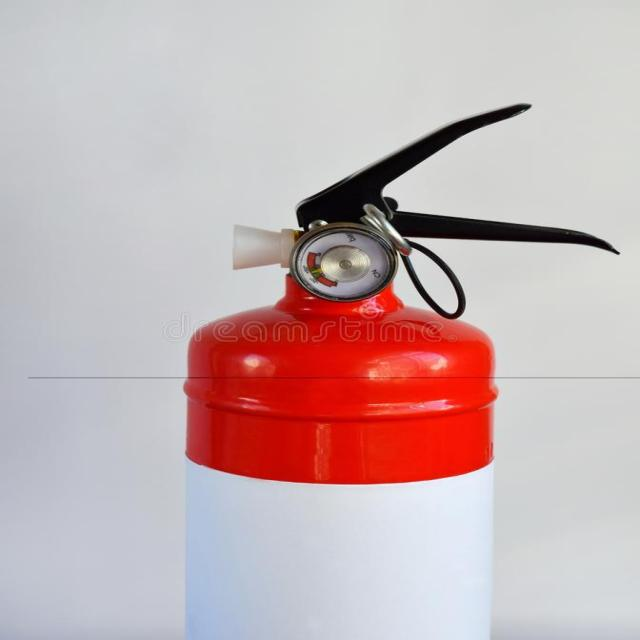fire_extinguisher: (163, 99, 626, 639)
